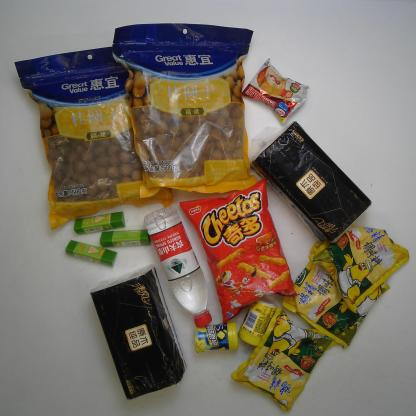Dessert: (239, 57, 311, 127)
Dried Food: (12, 44, 176, 233), (110, 20, 260, 200)
Drink: (142, 202, 214, 329)
Gum: (237, 297, 279, 349), (191, 320, 241, 355)
Puffed Food: (176, 175, 300, 325)
Seasoner: (228, 301, 342, 414), (279, 258, 393, 351), (307, 223, 412, 313)
Stationery: (62, 238, 120, 269), (73, 209, 127, 236), (97, 228, 152, 249)
Tissue: (246, 120, 374, 244), (88, 262, 189, 403)
